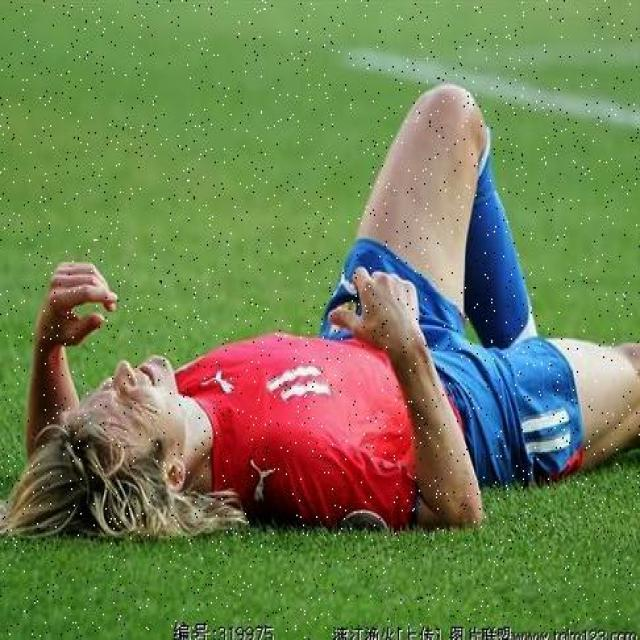fall: (6, 109, 634, 528)
